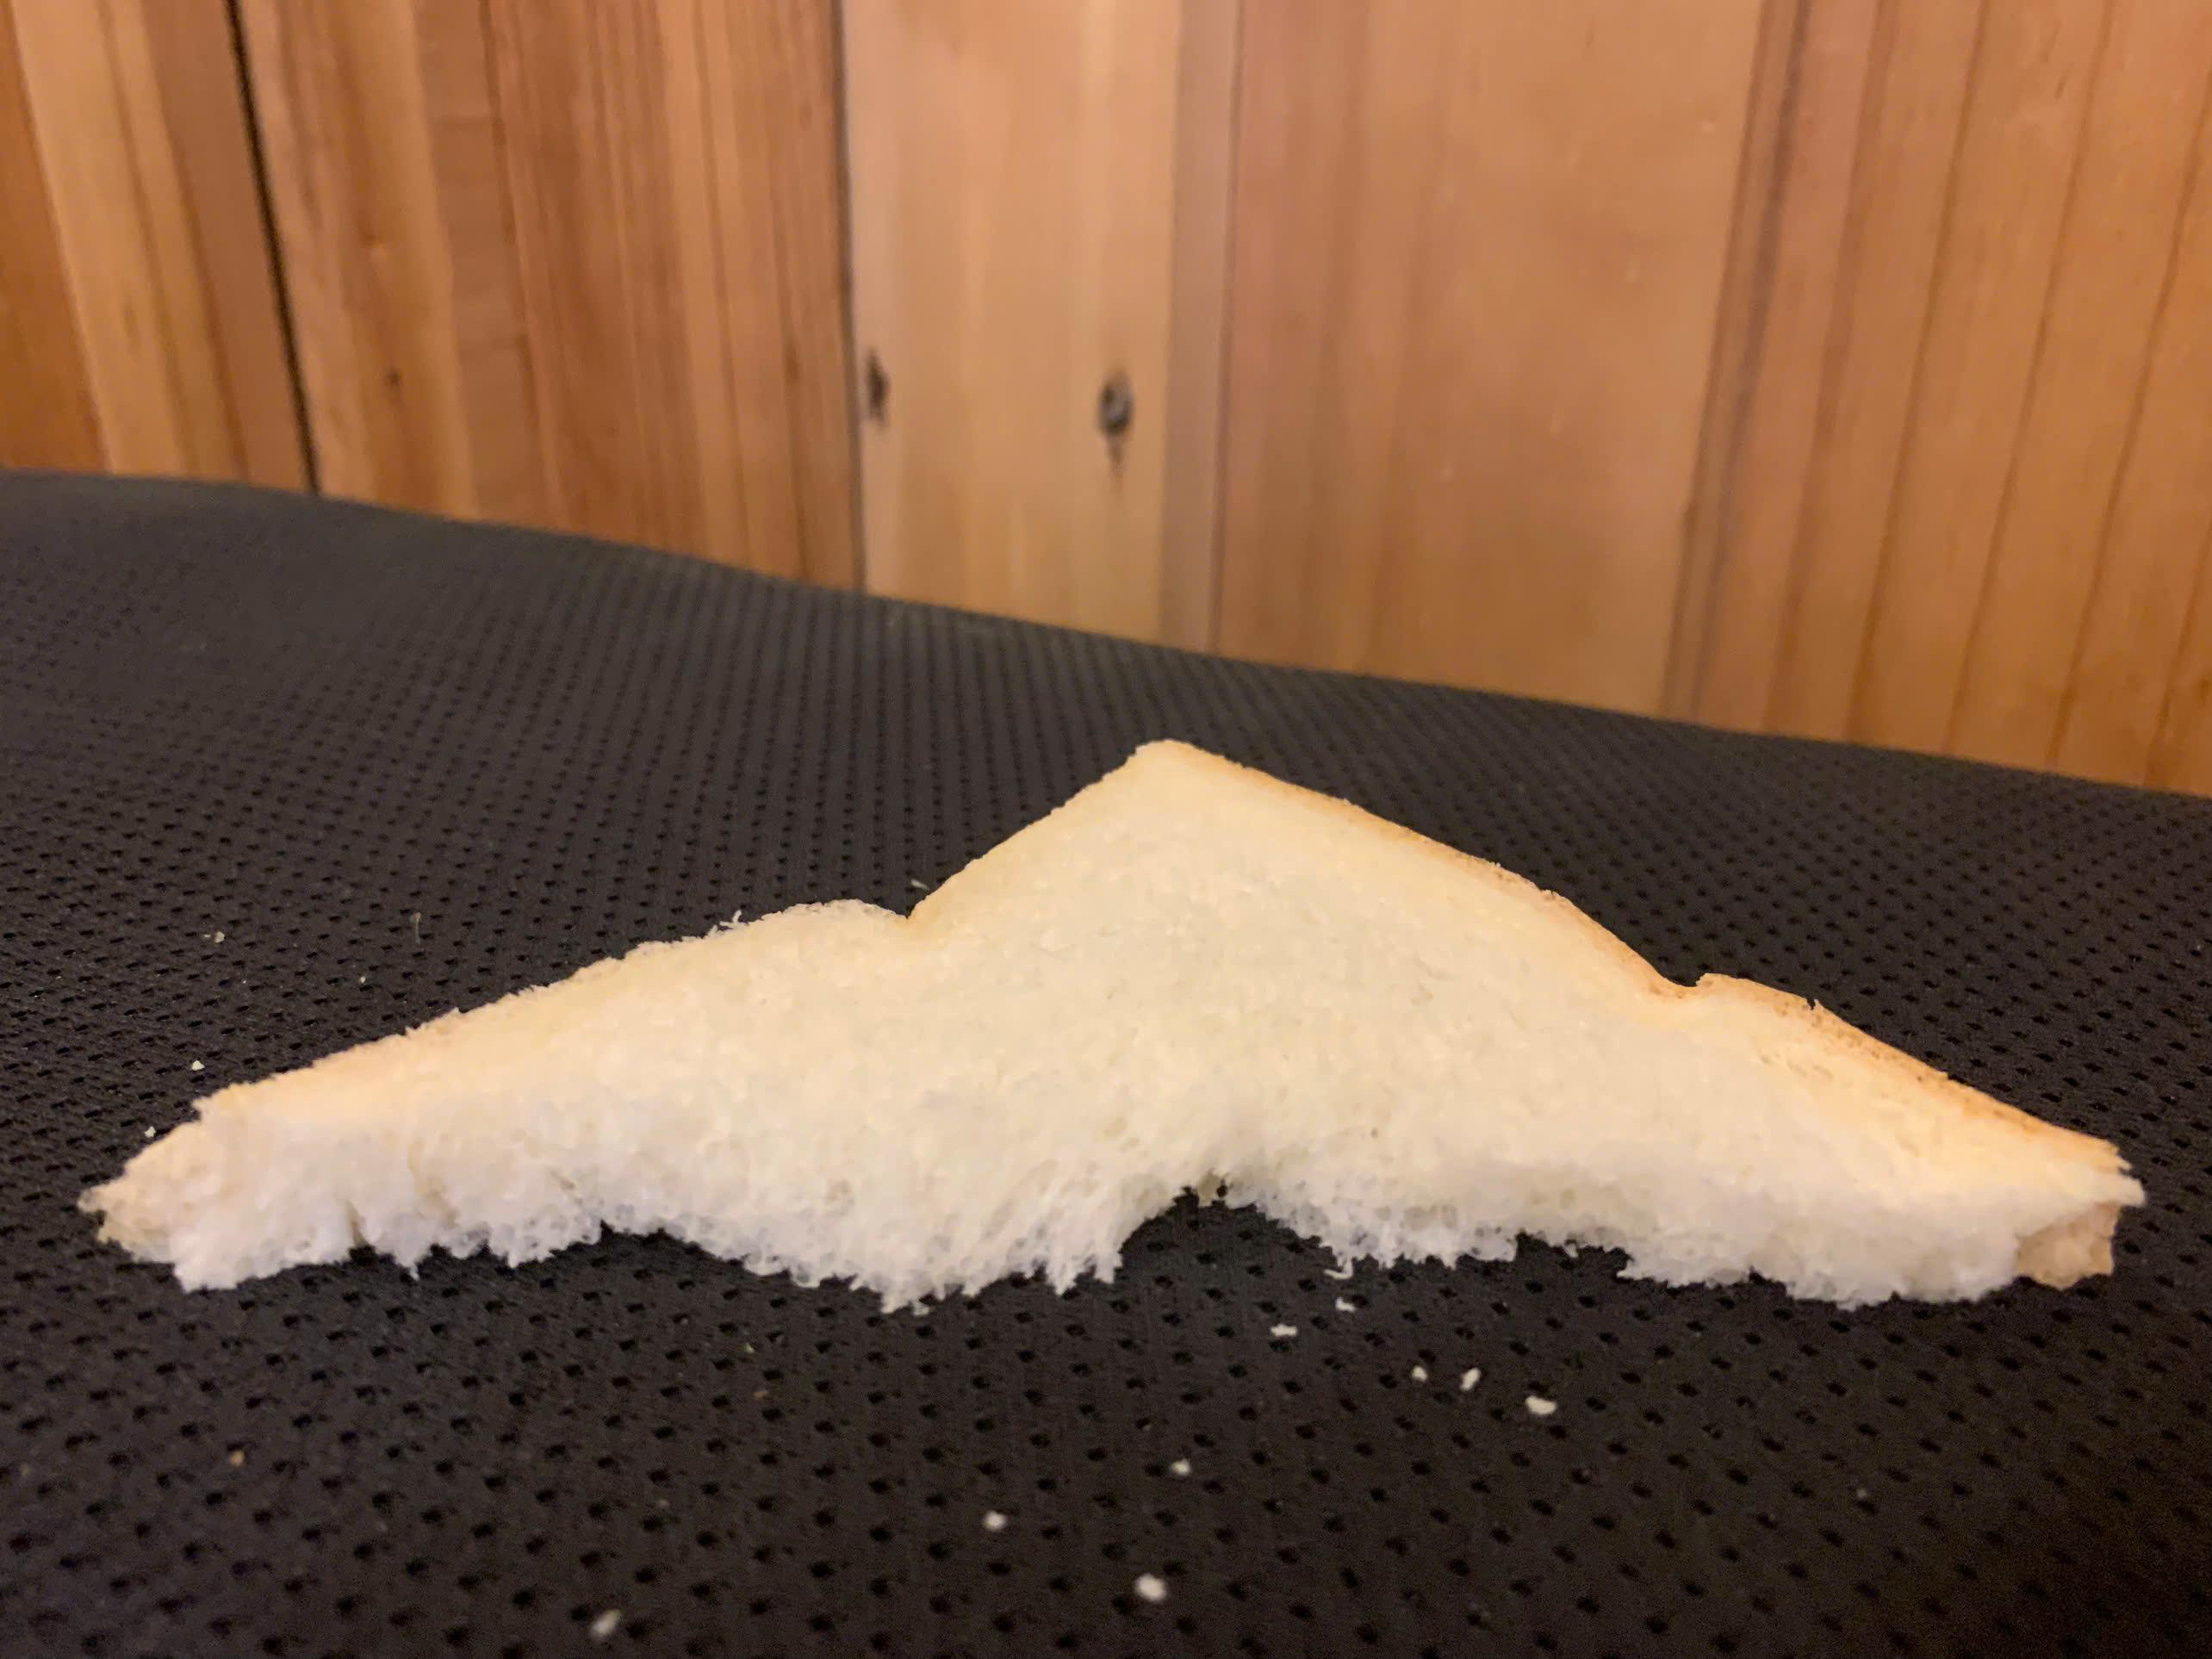Huu co: (92, 725, 2153, 1309)
